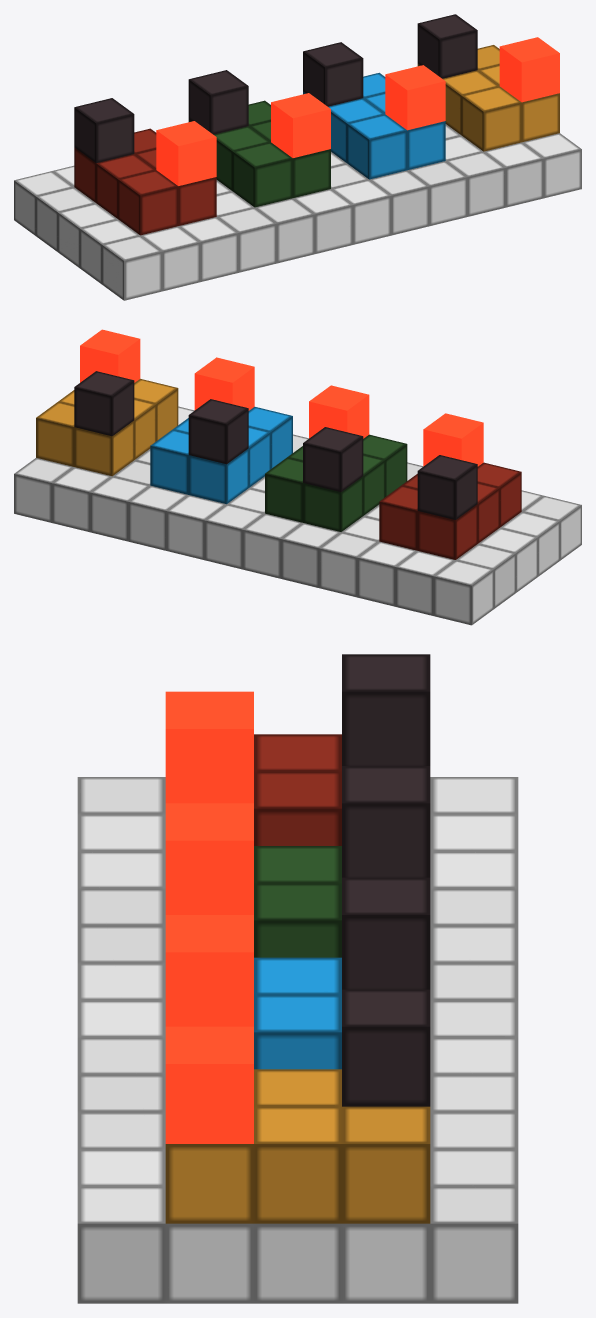
Rendered from pedalboard.glb.
The picture shows the model from 3 angles, top to bottom: view 1: azimuth 30°, elevation 25°; view 2: azimuth 150°, elevation 25°; view 3: azimuth 270°, elevation 25°; orthographic projection. The views are drawn at different scales.
Visible parts, largest first — view 1: pedalboard; view 2: pedalboard; view 3: pedalboard.
Boxes of the visible parts, box(x1,y1,x2,y2) form: pedalboard: box(14, 14, 581, 300); pedalboard: box(14, 329, 581, 625); pedalboard: box(77, 654, 518, 1303).
Bounding box in the file's own units: 0.6 × 0.15 × 0.25.
Materials: 7 (6 with a texture image).
